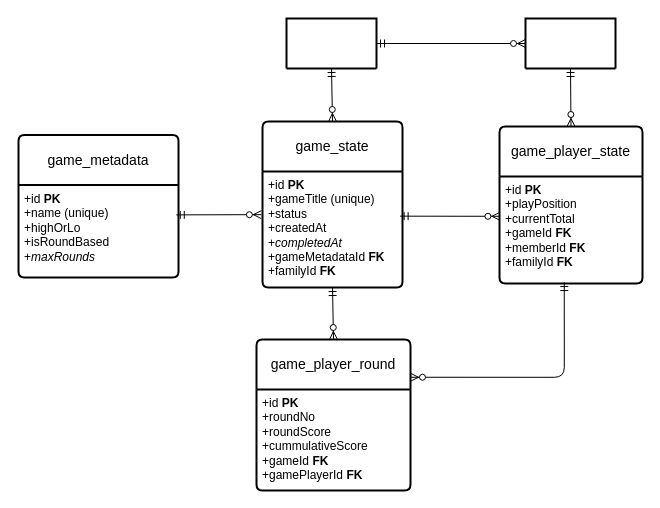
This 660x508 diagram has some shape labels left out. The shapes that lost their labels are listed below. From the top down, each one's centre as x and y in pixels, then its label:
(331,43): family
(570,43): member
